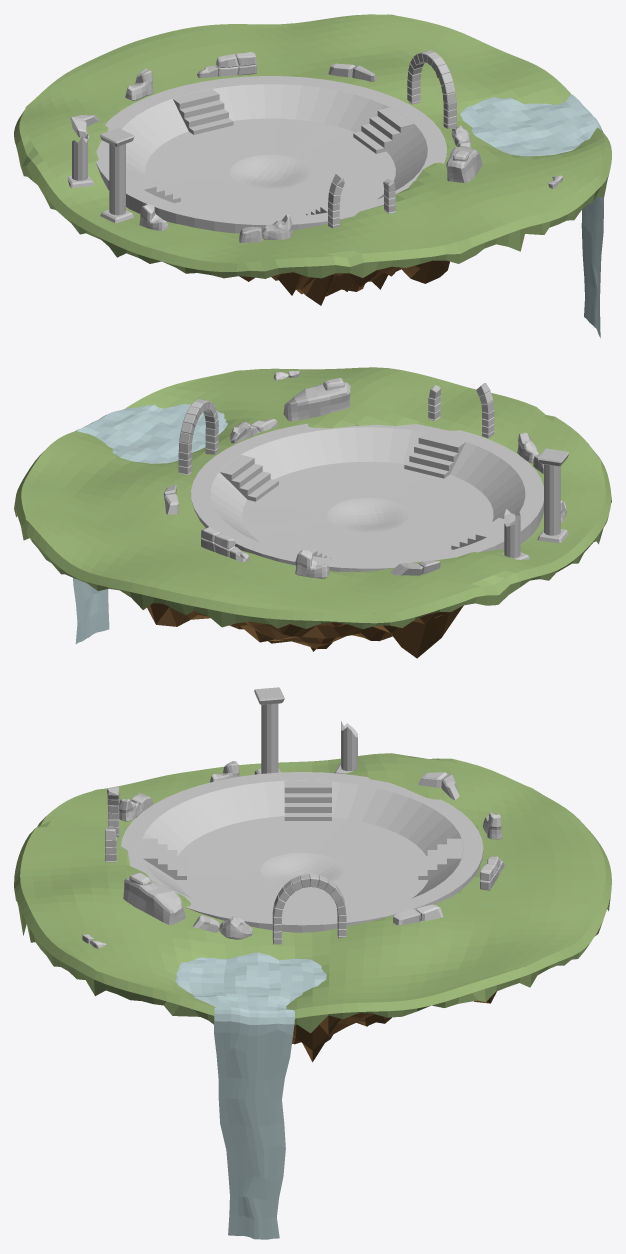
The model's file is hub.fbx.
3 renders of one model, top to bottom at view 1: azimuth 30°, elevation 25°; view 2: azimuth 150°, elevation 25°; view 3: azimuth 270°, elevation 25°, orthographic. The views are drawn at different scales.
Visible parts, largest first — view 1: Plane.002; view 2: Plane.002; view 3: Plane.002.
Part boxes in pixels (bbox=[...]): Plane.002: bbox=[14, 14, 611, 337]; Plane.002: bbox=[14, 367, 611, 658]; Plane.002: bbox=[14, 687, 611, 1239].
Bounding box in the file's own units: 2550 × 1452 × 2536.
